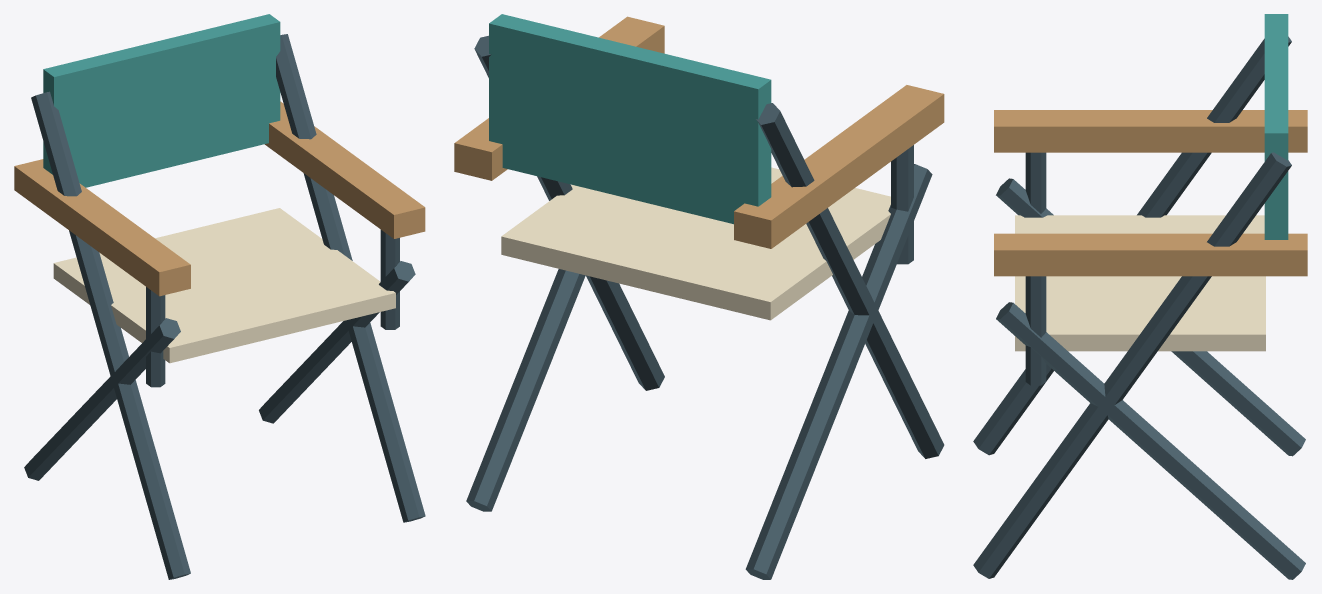
Rendered from canvas_fishing_chair_quiet_lake_fishing_22408.glb.
The picture shows the model from 3 angles, left to right: view 1: azimuth 30°, elevation 25°; view 2: azimuth 150°, elevation 25°; view 3: azimuth 270°, elevation 25°; orthographic projection. The views are drawn at different scales.
Parts seen in each view (by area): view 1: iron, teal, cream, wood; view 2: teal, iron, cream, wood; view 3: iron, wood, cream, teal.
Boxes of the visible parts, <box> form: iron: <box>24,34,425,579</box>; teal: <box>43,14,280,187</box>; cream: <box>53,208,395,363</box>; wood: <box>14,101,425,296</box>; teal: <box>489,14,771,224</box>; iron: <box>466,35,944,579</box>; cream: <box>501,167,890,320</box>; wood: <box>454,16,944,248</box>; iron: <box>973,36,1305,579</box>; wood: <box>994,110,1307,276</box>; cream: <box>1015,215,1265,351</box>; teal: <box>1264,14,1288,239</box>.
Bounding box in the file's own units: 0.635 × 0.9371 × 0.6401.
